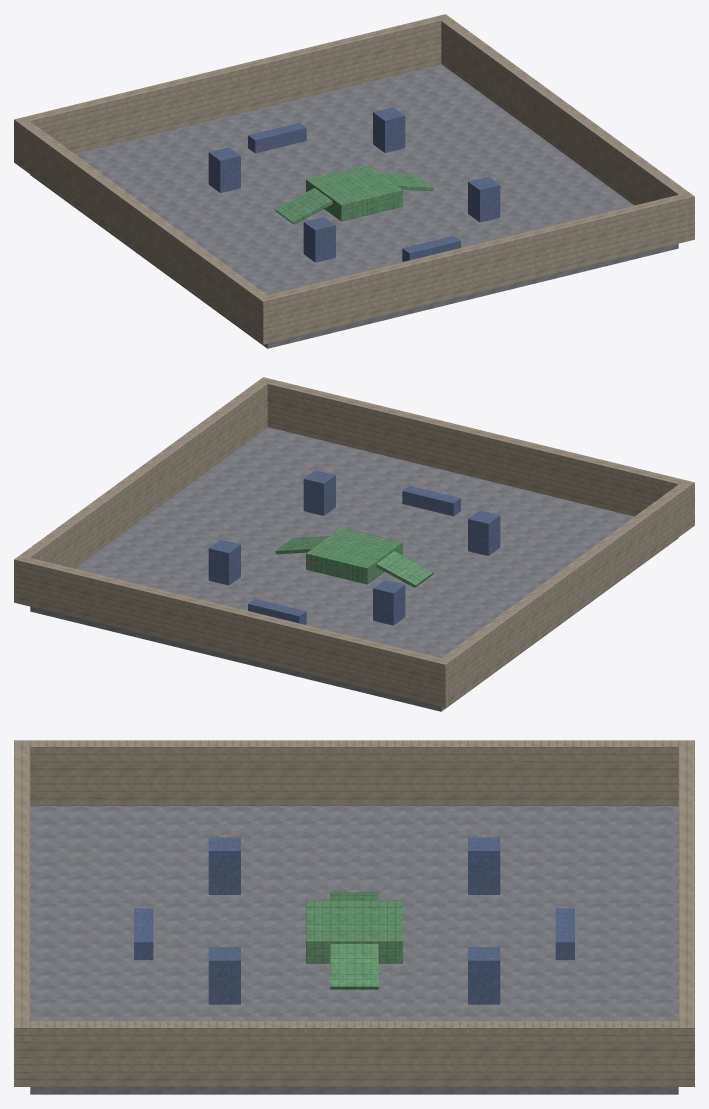
The model's file is arena01.glb.
3 renders of one model, top to bottom at view 1: azimuth 30°, elevation 25°; view 2: azimuth 150°, elevation 25°; view 3: azimuth 270°, elevation 25°, orthographic. The views are drawn at different scales.
Visible parts, largest first — view 1: floor, wall_south, wall_north, wall_west, wall_east, platform_center, pillar_se, pillar_ne, pillar_nw, pillar_sw, cover_n, ramp_west (+2 smaller); view 2: floor, wall_north, wall_south, wall_west, wall_east, platform_center, pillar_ne, pillar_se, pillar_nw, pillar_sw, cover_s, ramp_west (+2 smaller); view 3: floor, wall_east, wall_west, wall_north, wall_south, platform_center, ramp_east, pillar_ne, pillar_nw, pillar_se, pillar_sw, cover_n (+1 smaller).
Boxes of the visible parts, box(x1,y1,x2,y2) form: floor: box(30, 64, 678, 348); wall_south: box(257, 192, 694, 344); wall_north: box(14, 14, 451, 166); wall_west: box(14, 117, 273, 344); wall_east: box(440, 15, 694, 241); platform_center: box(306, 164, 402, 221); pillar_se: box(468, 176, 500, 222); pillar_ne: box(373, 107, 405, 152); pillar_nw: box(208, 147, 240, 192); pillar_sw: box(303, 217, 335, 262); cover_n: box(248, 123, 306, 153); ramp_west: box(275, 188, 332, 224); floor: box(30, 427, 678, 711); wall_north: box(14, 555, 451, 707); wall_south: box(257, 377, 694, 529); wall_west: box(435, 480, 694, 707); wall_east: box(14, 377, 268, 604); platform_center: box(306, 527, 402, 584); pillar_ne: box(208, 539, 240, 585); pillar_se: box(303, 470, 335, 515); pillar_nw: box(373, 580, 405, 625); pillar_sw: box(468, 510, 500, 555); cover_s: box(402, 486, 460, 516); ramp_west: box(376, 551, 433, 587); floor: box(30, 806, 678, 1094); wall_east: box(14, 1021, 694, 1086); wall_west: box(14, 740, 694, 805); wall_north: box(678, 740, 694, 1086); wall_south: box(14, 740, 30, 1086); platform_center: box(306, 900, 402, 963); ramp_east: box(330, 944, 378, 989); pillar_ne: box(468, 947, 500, 1004); pillar_nw: box(468, 837, 500, 894); pillar_se: box(208, 947, 240, 1004); pillar_sw: box(208, 837, 240, 894); cover_n: box(555, 908, 574, 959).
Size of the model in its own units: 42 by 5 by 42.
4 materials, 4 textured.
